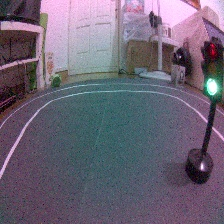green: (183, 32, 224, 185)
